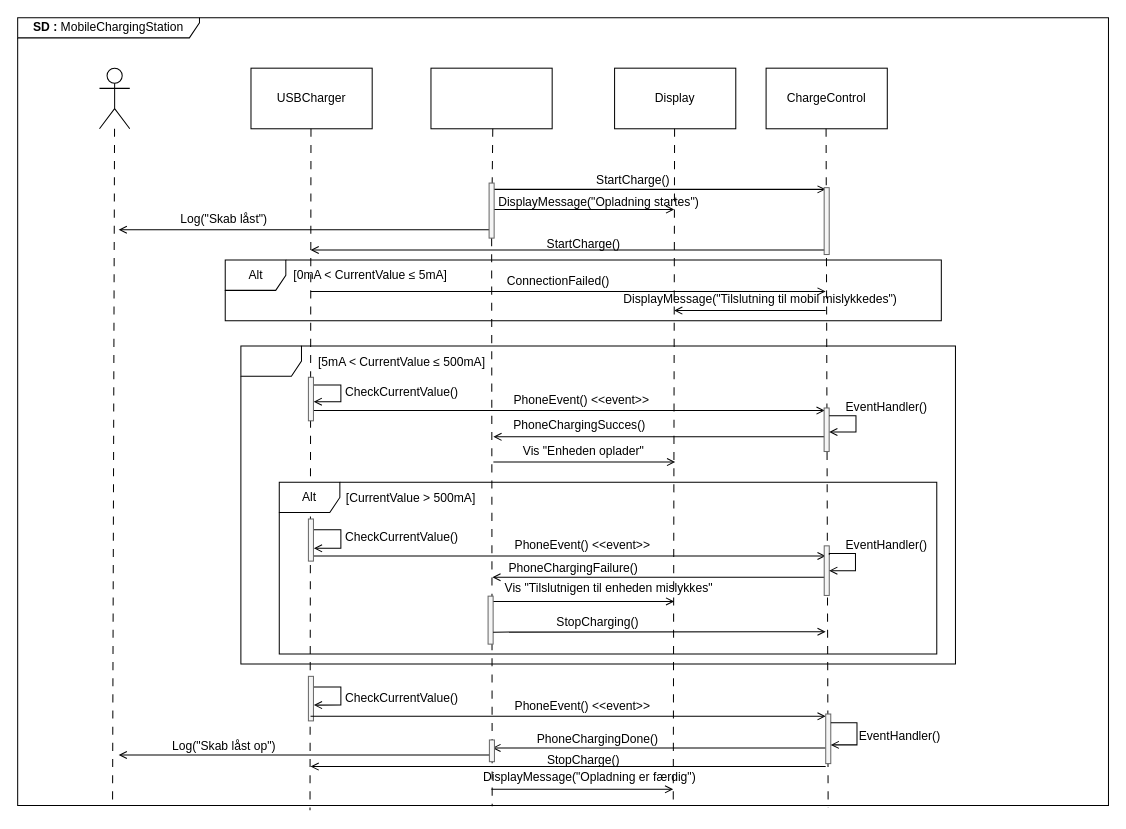
Some shapes in this 1126 by 829 pixel diagram are drawn without their labels. The shapes that lost their labels are listed below. From the top down, each one's box as (x1, y1, x2, y2) in pixels, then its label:
(98, 67, 130, 129): Log
(430, 67, 552, 129): StationControl
(240, 345, 955, 664): Loop
